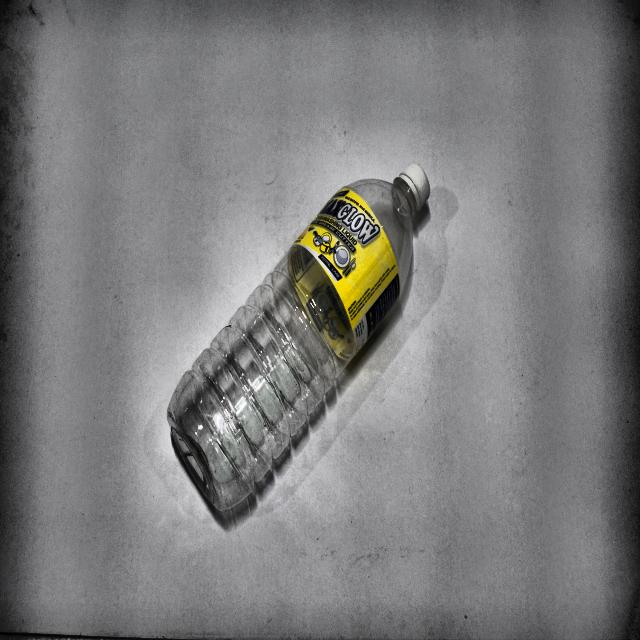Bottles: (162, 155, 434, 526)
